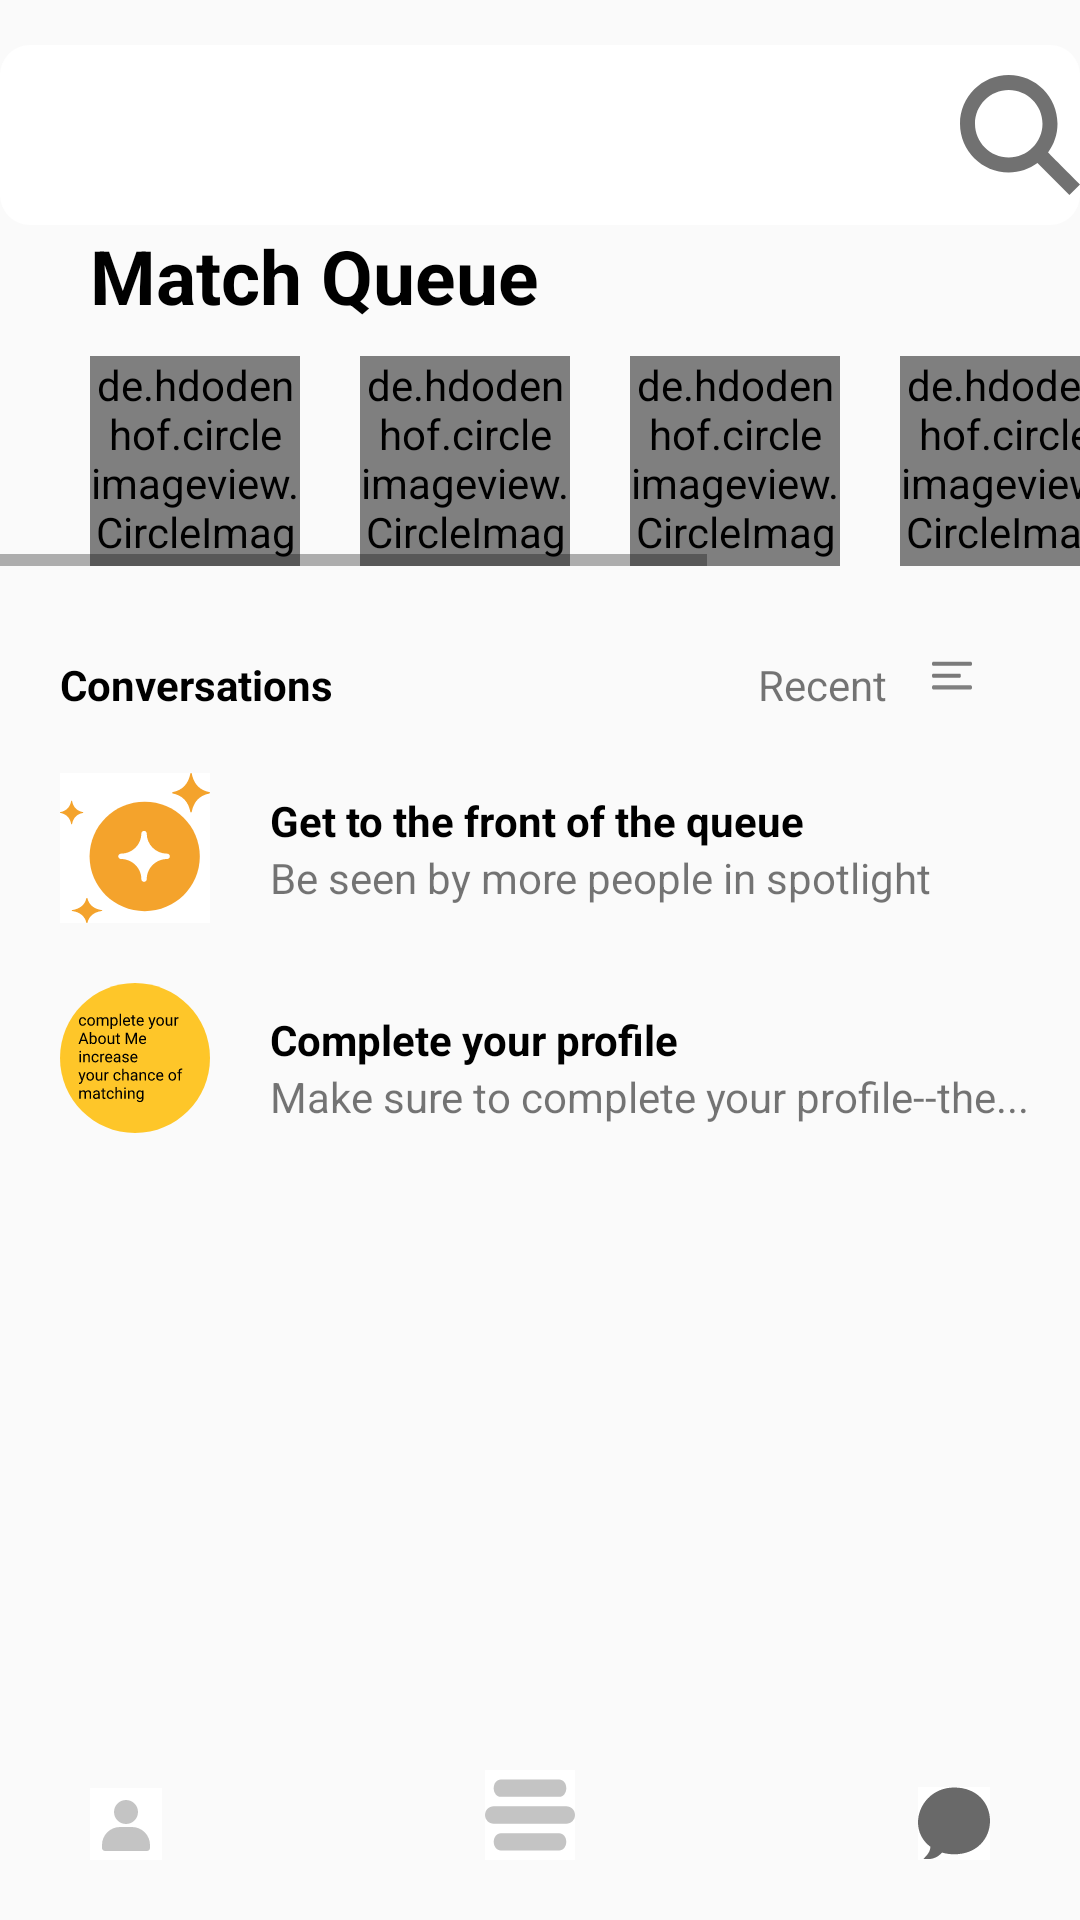

Screen size 1080*1920. Icon name, then its box in pixels as {"x1": x1, "y1": y1, "x2": x2, "y2": y2}:
chat 50final: {"x1": 918, "y1": 1787, "x2": 990, "y2": 1859}
iconfinder user account profile: {"x1": 102, "y1": 1800, "x2": 150, "y2": 1851}
spotlightbig: {"x1": 60, "y1": 773, "x2": 210, "y2": 923}
